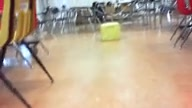cube: (100, 23, 119, 41)
